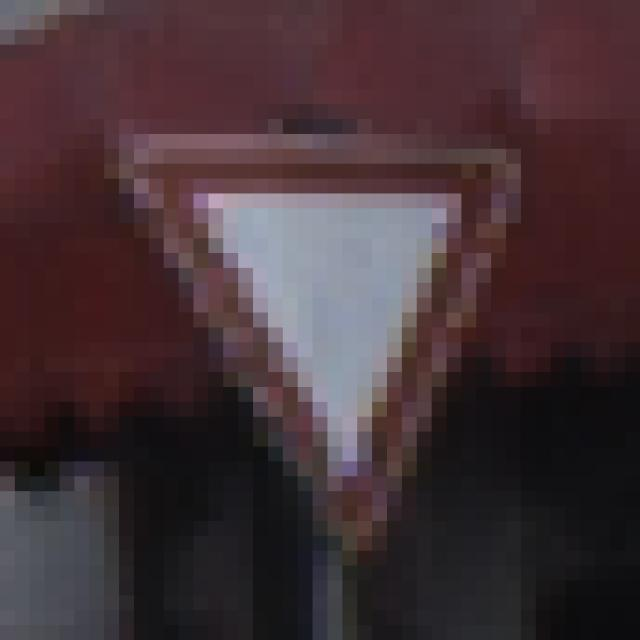Give Way: (90, 90, 567, 567)
